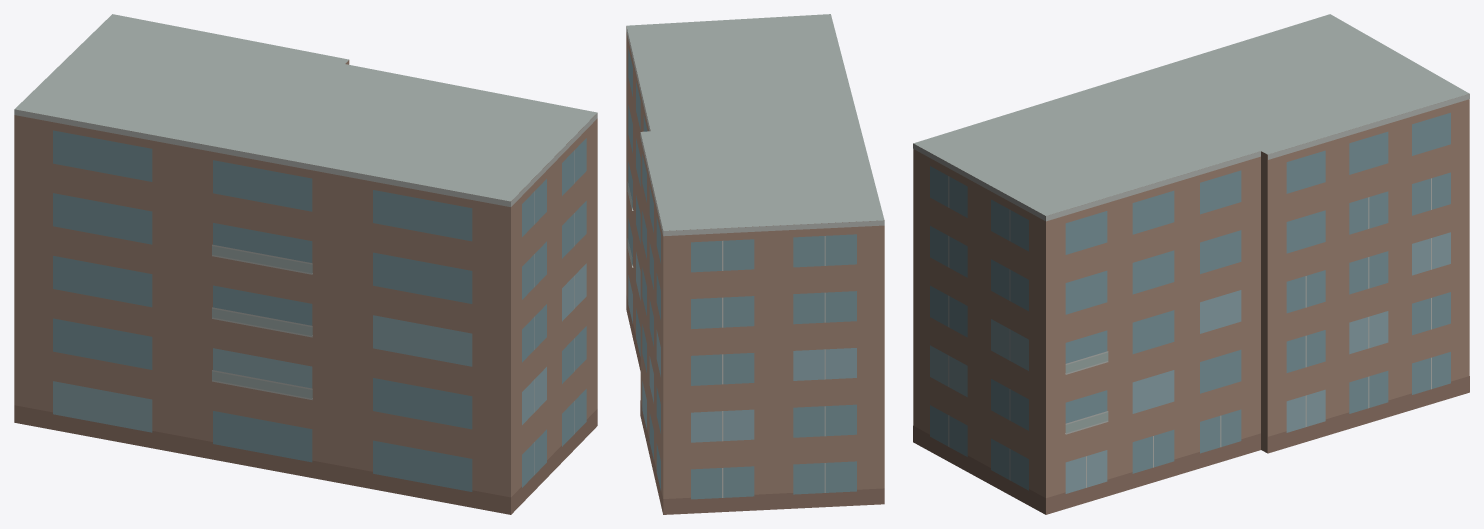
Rendered from survey-upis-32710447.glb.
3 renders of one model, left to right at view 1: azimuth 30°, elevation 25°; view 2: azimuth 150°, elevation 25°; view 3: azimuth 270°, elevation 25°, orthographic. The views are drawn at different scales.
Parts seen in each view (by area): view 1: survey-upis-32710447.tmp; view 2: survey-upis-32710447.tmp; view 3: survey-upis-32710447.tmp.
Part boxes in pixels (x1=…): survey-upis-32710447.tmp: x1=14, y1=14, x2=597, y2=514; survey-upis-32710447.tmp: x1=626, y1=14, x2=884, y2=514; survey-upis-32710447.tmp: x1=913, y1=14, x2=1469, y2=514.
Size of the model in its own units: 19.51 by 13.45 by 22.71.
